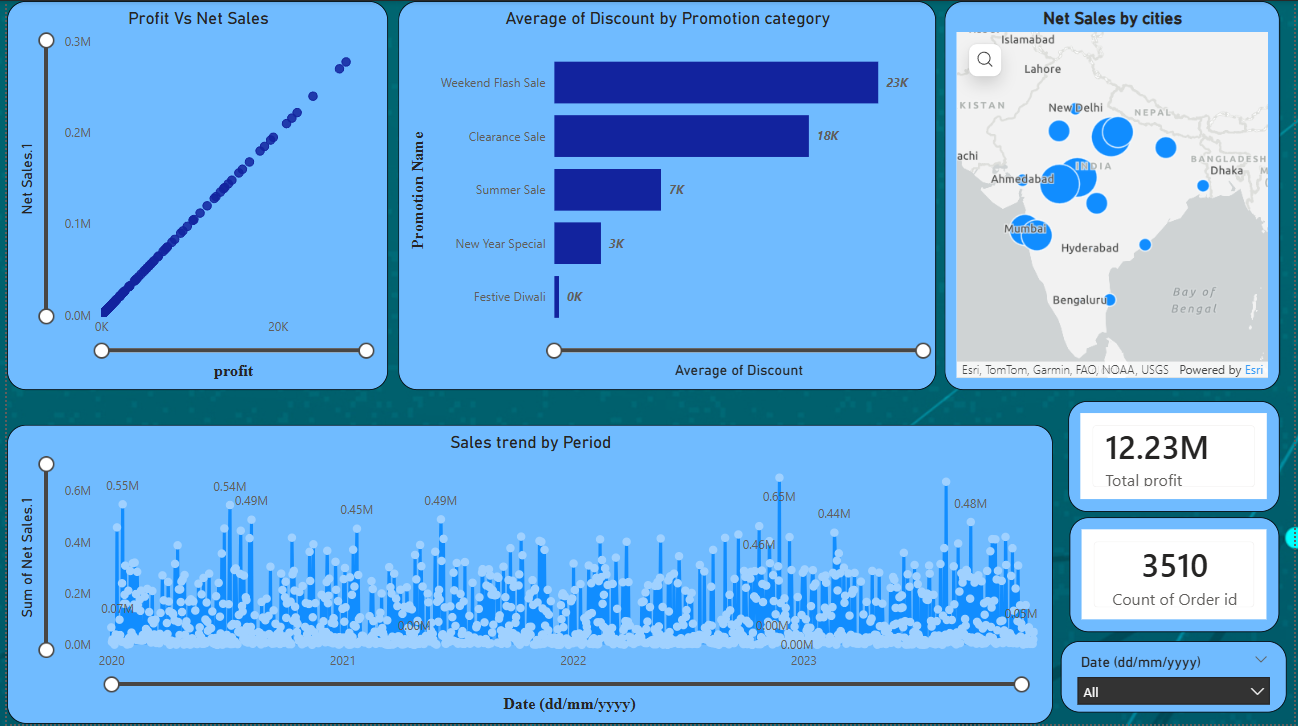

Layout of this report page (visuals, bound fields, positions):
{"tool":"powerbi","page":{"name":"overview","canvas":[1280,720],"ordinal":0},"visuals":[{"type":"lineChart","title":"Sales trend by Period","fields":{"Y":["Sum(FACT TABLE.Net Sales.1)"],"Category":["FACT TABLE.Date (dd/mm/yyyy).Variation.Date Hierarchy.Year"]},"box":[0,422.3,1040.9,297.2],"z":0},{"type":"slicer","fields":{"Values":["FACT TABLE.Date (dd/mm/yyyy).Variation.Date Hierarchy.Year"]},"box":[1048.7,636.9,225.2,70.9],"z":1000},{"type":"scatterChart","title":"Profit Vs Net Sales","fields":{"X":["FACT TABLE.profit"],"Y":["FACT TABLE.Net Sales.1"]},"box":[0,0,379.4,386.9],"z":2000},{"type":"barChart","title":"Average of Discount by Promotion category","fields":{"Y":["Avg(FACT TABLE.Discount)"],"Category":["Dim Promotion.Promotion Name"]},"box":[389.4,0,534.9,386.9],"z":3000},{"type":"cardVisual","fields":{"Data":["Sum(FACT TABLE.profit)"]},"box":[1056.1,398.1,210.2,110.7],"z":4000},{"type":"esriVisual","title":"Net Sales by cities","fields":{"Location":["Dim Customers.City"],"Size":["Sum(FACT TABLE.Net Sales.1)"]},"box":[933,0,333.4,386.9],"z":5000},{"type":"cardVisual","fields":{"Data":["Count(FACT TABLE.Index)"]},"box":[1057.4,513.8,209,114.4],"z":6000}]}

Visuals, with their boxes in screenshot pixels (x1, y1, x2, y2), scaled from the page's 1280x720 canvas onto the 1298x726 screenshot:
"Sales trend by Period" lineChart: BBox(0, 426, 1056, 725)
slicer - FACT TABLE.Date (dd/mm/yyyy).Variation.Date Hierarchy.Year: BBox(1063, 642, 1292, 714)
"Profit Vs Net Sales" scatterChart: BBox(0, 0, 385, 390)
"Average of Discount by Promotion category" barChart: BBox(395, 0, 937, 390)
cardVisual - Sum(FACT TABLE.profit): BBox(1071, 401, 1284, 513)
"Net Sales by cities" esriVisual: BBox(946, 0, 1284, 390)
cardVisual - Count(FACT TABLE.Index): BBox(1072, 518, 1284, 633)
